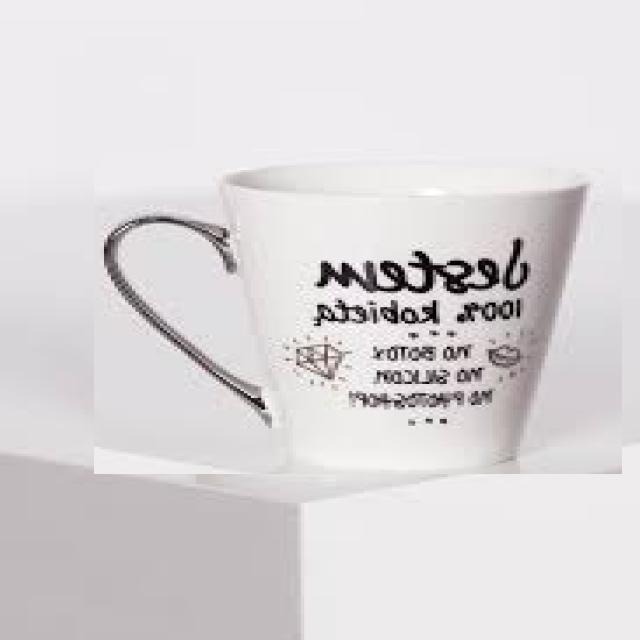Coffee Mug: (105, 166, 588, 468)
